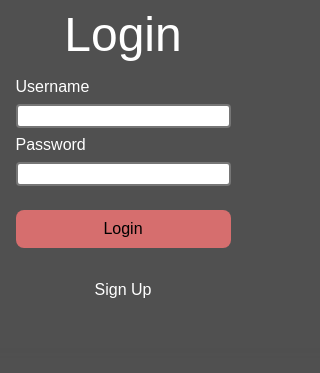
Scenario: Verify: Switch From Login to Sign Up Functionality
Click the button "Sign Up": (123, 290) [88,264,157,316]
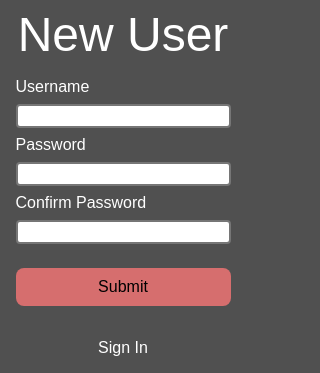
Now the button "Sign Up" is gone
